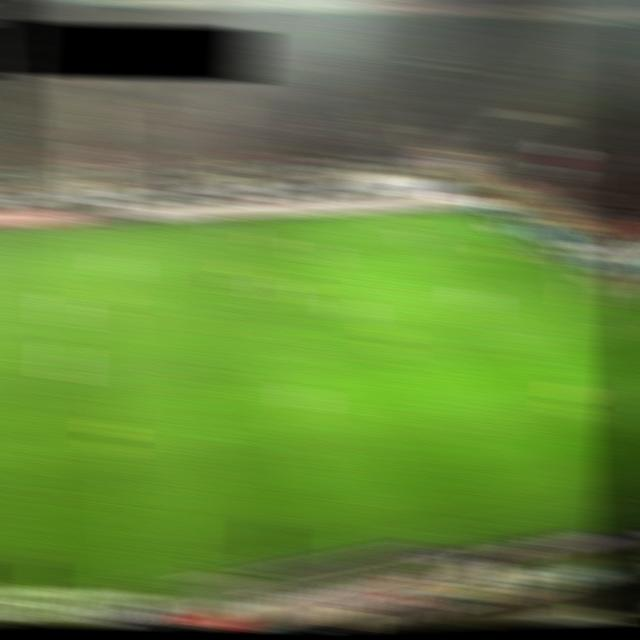bigarea_bottom_inner: (553, 385, 592, 407)
bigarea_top_inner: (381, 239, 415, 254)
bigarea_top_outter: (495, 234, 531, 249)
bottom_arc_area_intersection: (479, 322, 513, 337)
corner: (451, 205, 485, 220)
halfcircle_bottom: (98, 369, 132, 385)
halfcircle_top: (89, 288, 128, 306)
midline_bottom_intersection: (112, 569, 151, 589)
midline_top_intersection: (86, 220, 121, 235)
smallarea_bottom_inner: (591, 322, 625, 337)
smallarea_top_inner: (500, 261, 534, 277)
smallarea_top_outter: (540, 260, 574, 275)
top_arc_area_intersection: (420, 272, 454, 288)
